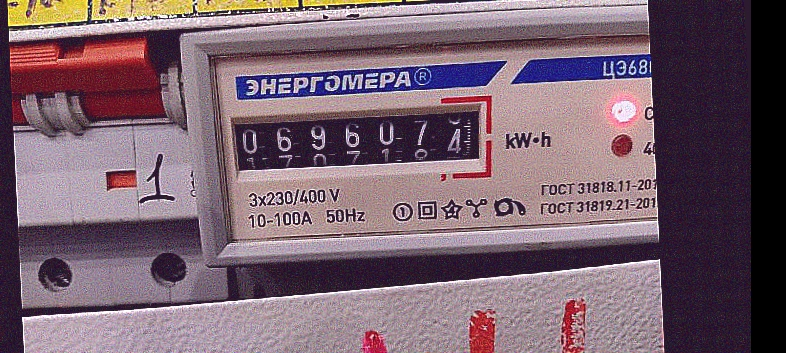0: (239, 125, 259, 155), (375, 117, 395, 145)
4: (443, 126, 463, 155)
6: (342, 119, 361, 148), (273, 124, 292, 152)
7: (410, 116, 430, 147)
9: (307, 123, 326, 151)
screen: (217, 90, 500, 191)
